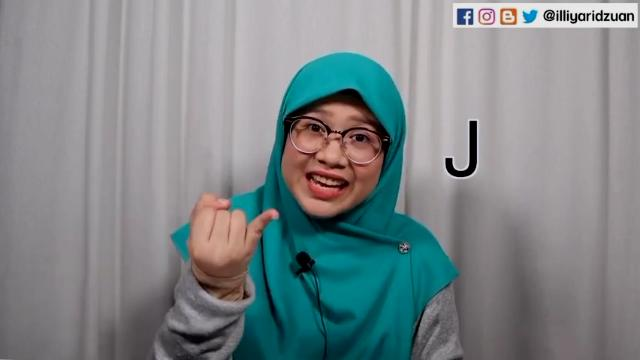J: (186, 189, 280, 279)
